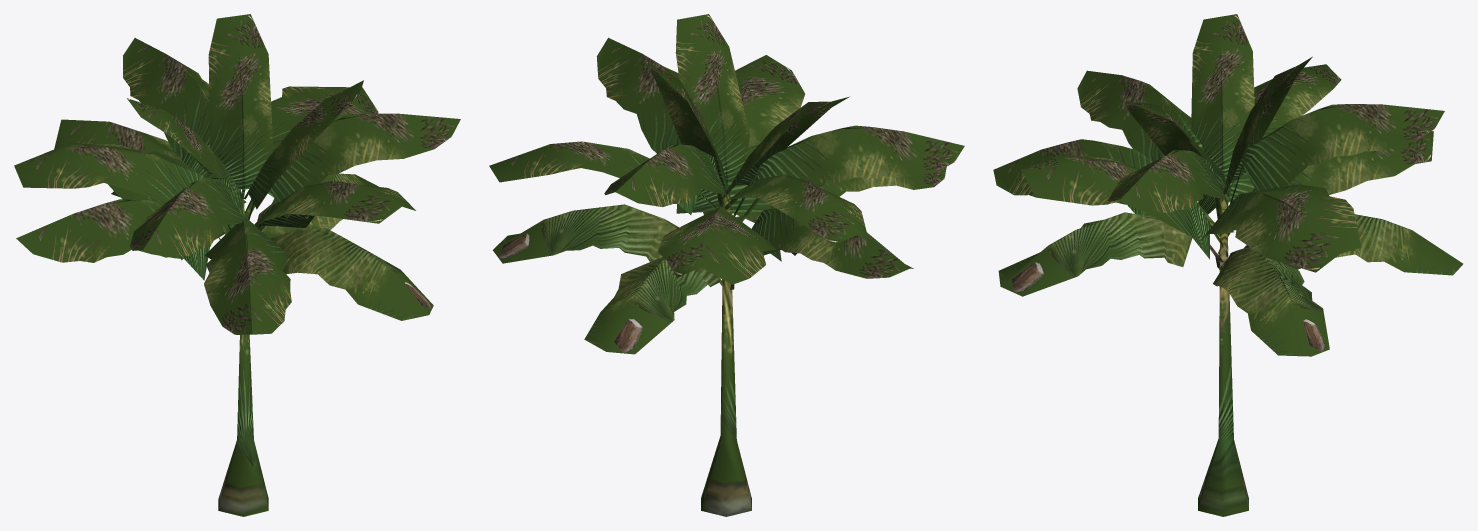
The model's file is banana_tree.fbx.
3 views of the same model, side by side, from view 1: azimuth 30°, elevation 25°; view 2: azimuth 150°, elevation 25°; view 3: azimuth 270°, elevation 25° (orthographic).
Parts seen in each view (by area): view 1: polySurface44; view 2: polySurface44; view 3: polySurface44.
Part boxes in pixels (<box>): polySurface44: <box>14,14,460,516</box>; polySurface44: <box>489,14,964,516</box>; polySurface44: <box>993,14,1463,516</box>.
Bounding box in the file's own units: 29.3 × 32.31 × 29.88.
